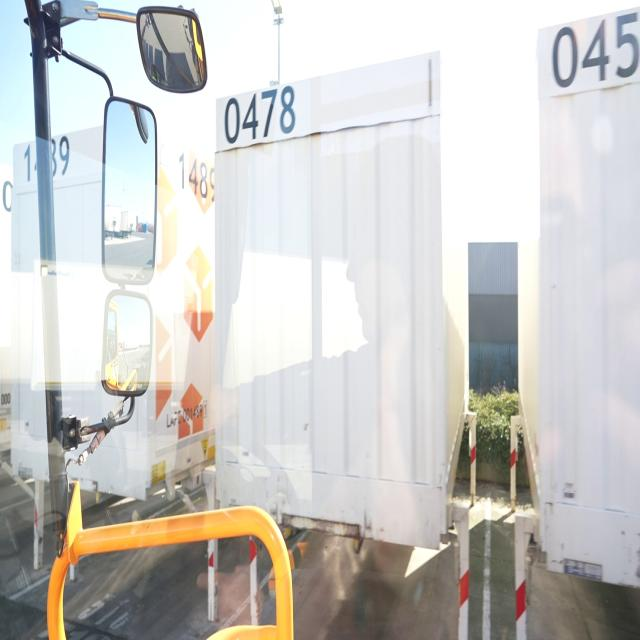Code: (220, 82, 298, 149)
